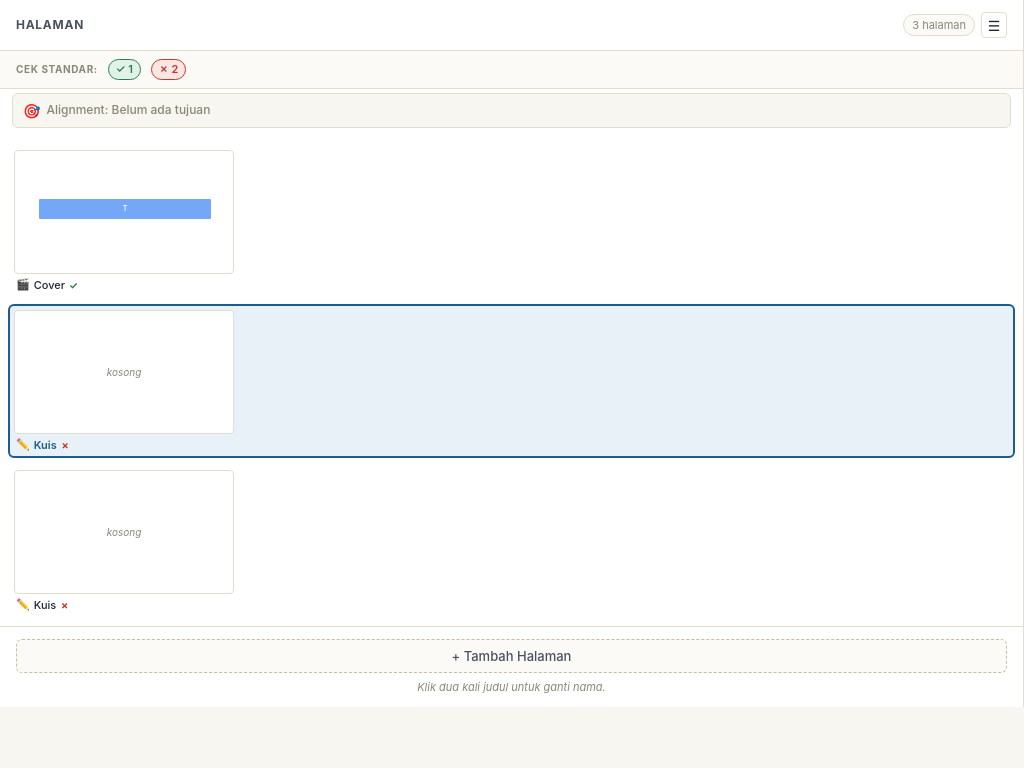
Test case: UX-01 Patch-2 — Scope C: UX-02 minor polish › inactive page with issues can still expand issues via toggle button
The width and height of the screenshot is (1024, 768).
Click the button with test id "page-panel-view-toggle". click: click(994, 25)
box: [981,12,1007,38]
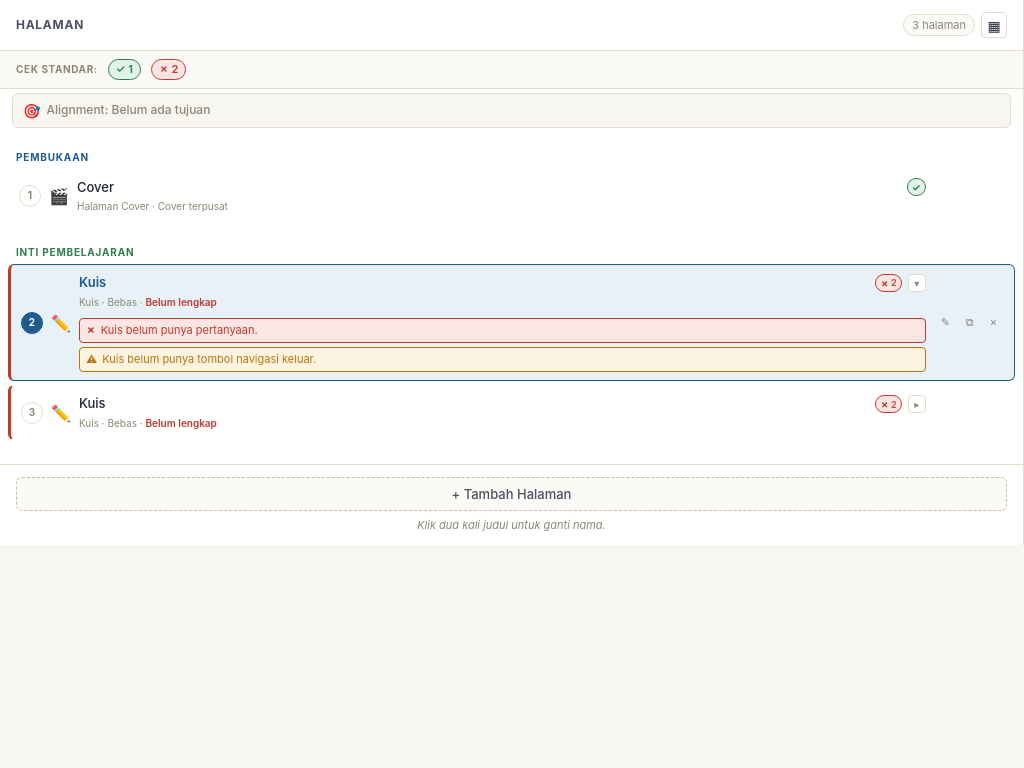
Result: the button with test id "page-issue-toggle-" is shown
Click the button with test id "page-issue-toggle-". click: click(917, 404)
box: [908,395,926,413]
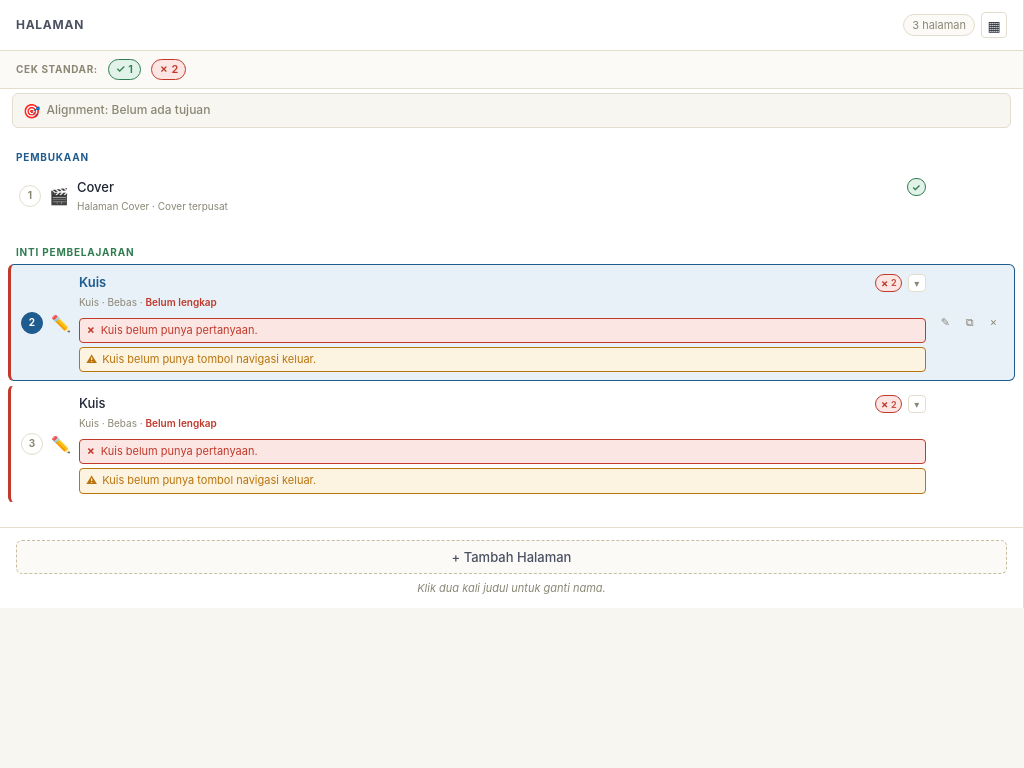
Result: the 2nd list is shown at [79,439,926,494]
